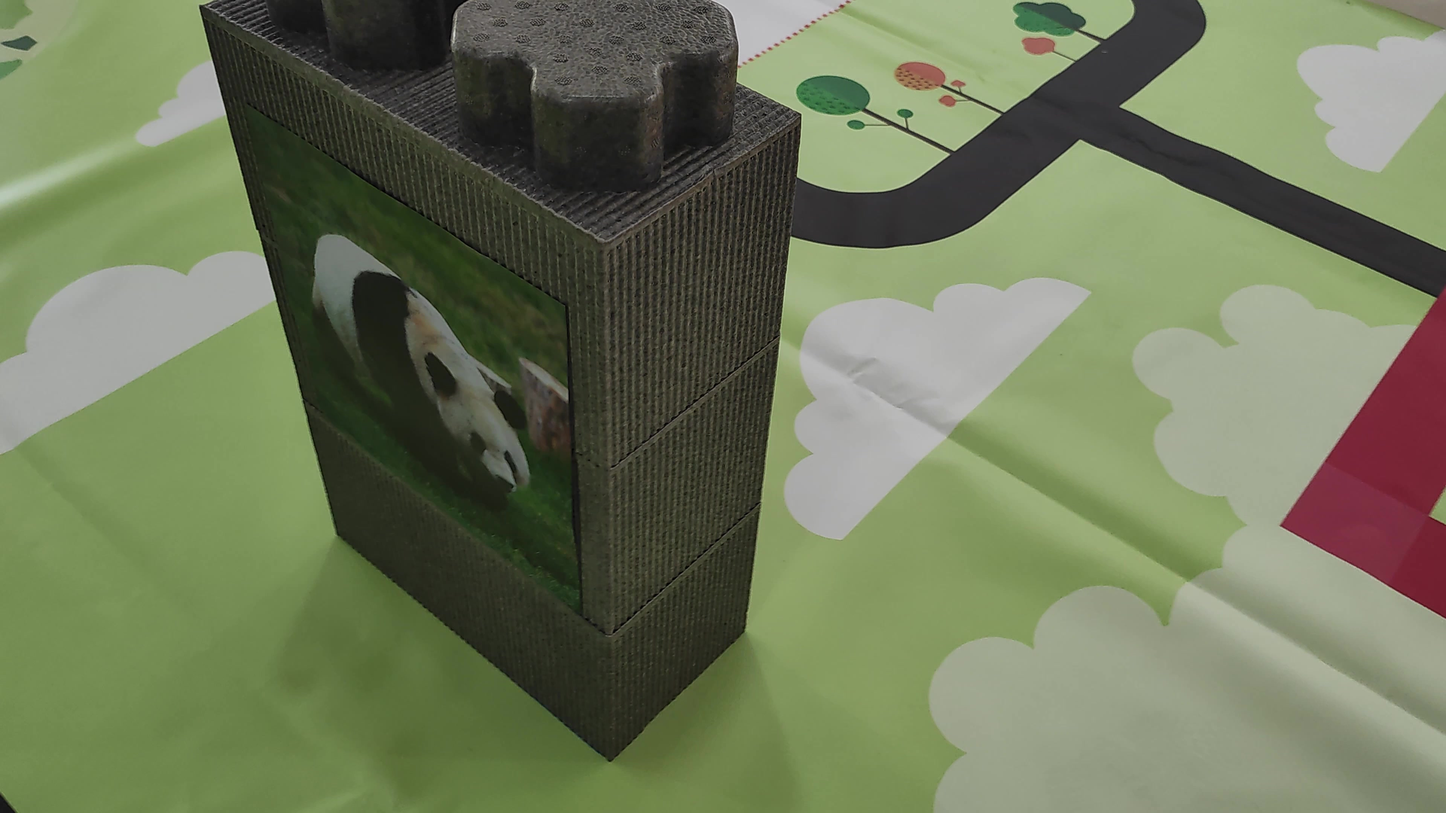panda: (283, 220, 540, 521)
